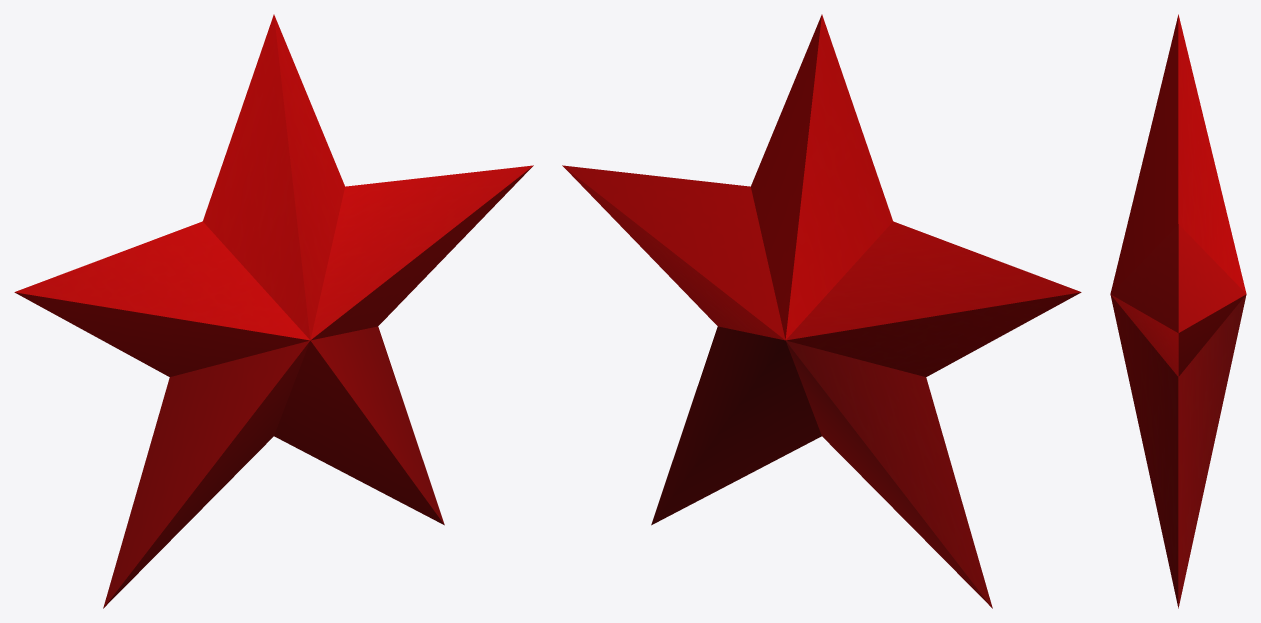
Rendered from enemy04.obj.
The picture shows the model from 3 angles, left to right: view 1: azimuth 30°, elevation 25°; view 2: azimuth 150°, elevation 25°; view 3: azimuth 270°, elevation 25°; orthographic projection. The views are drawn at different scales.
Parts seen in each view (by area): view 1: Cube; view 2: Cube; view 3: Cube.
Part boxes in pixels (x1,y1,x2,y2): Cube: (14,14,533,608); Cube: (562,14,1081,608); Cube: (1110,14,1246,608).
Bounding box in the file's own units: 7.34 × 7.46 × 1.78.
1 material, 1 textured.
